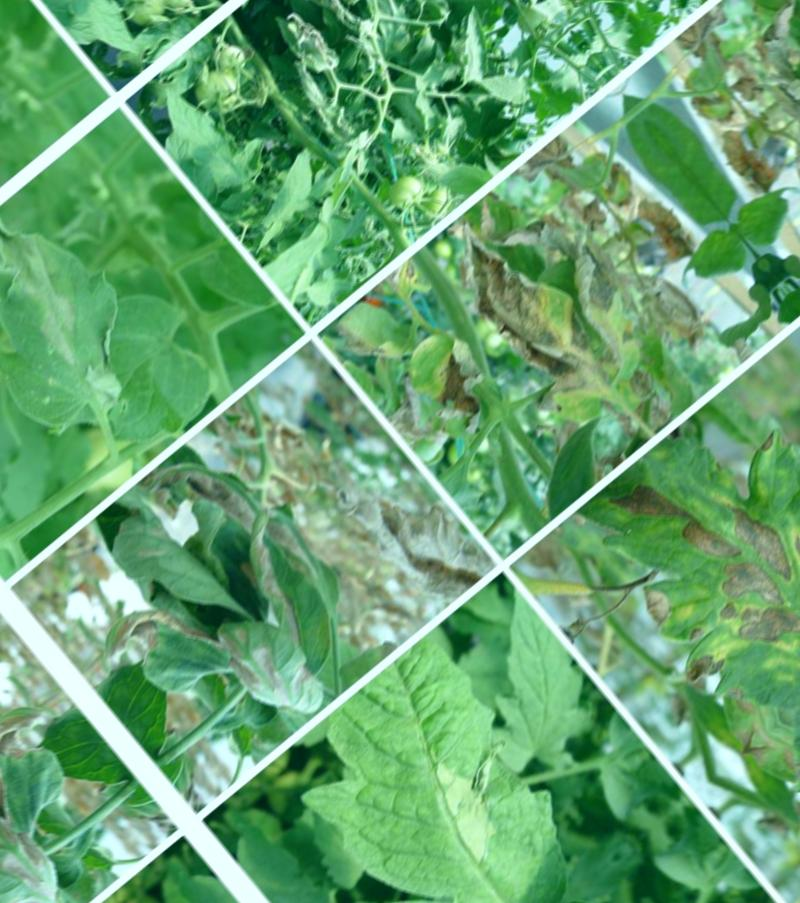Tomato leaf bacterial spot: (570, 376, 800, 744)
